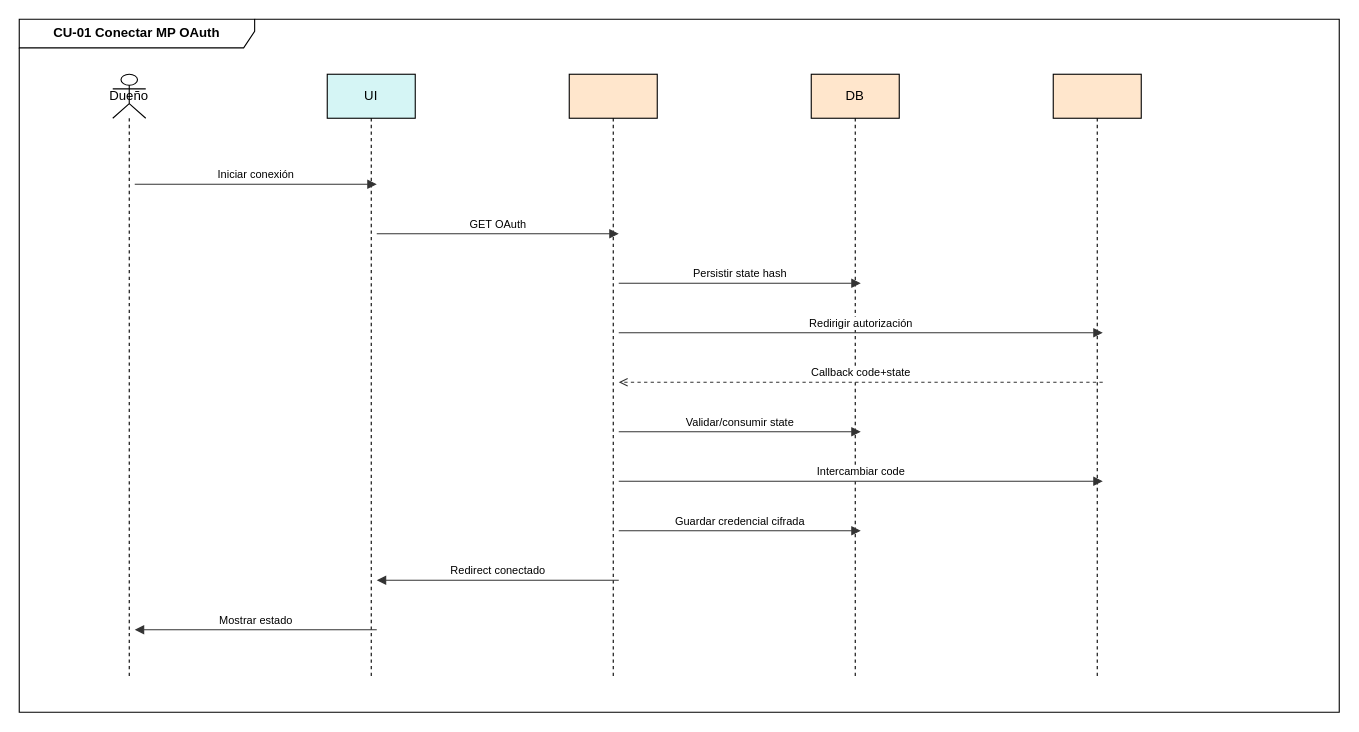
The diagram is 1359 pixels wide and 732 high, and some of its shapes have lost their labels. The shapes that lost their labels are listed below. From the top down, each one's box as (x1, y1, x2, y2) in pixels, then its label:
(568, 73, 657, 679): API
(1052, 73, 1141, 679): MP
